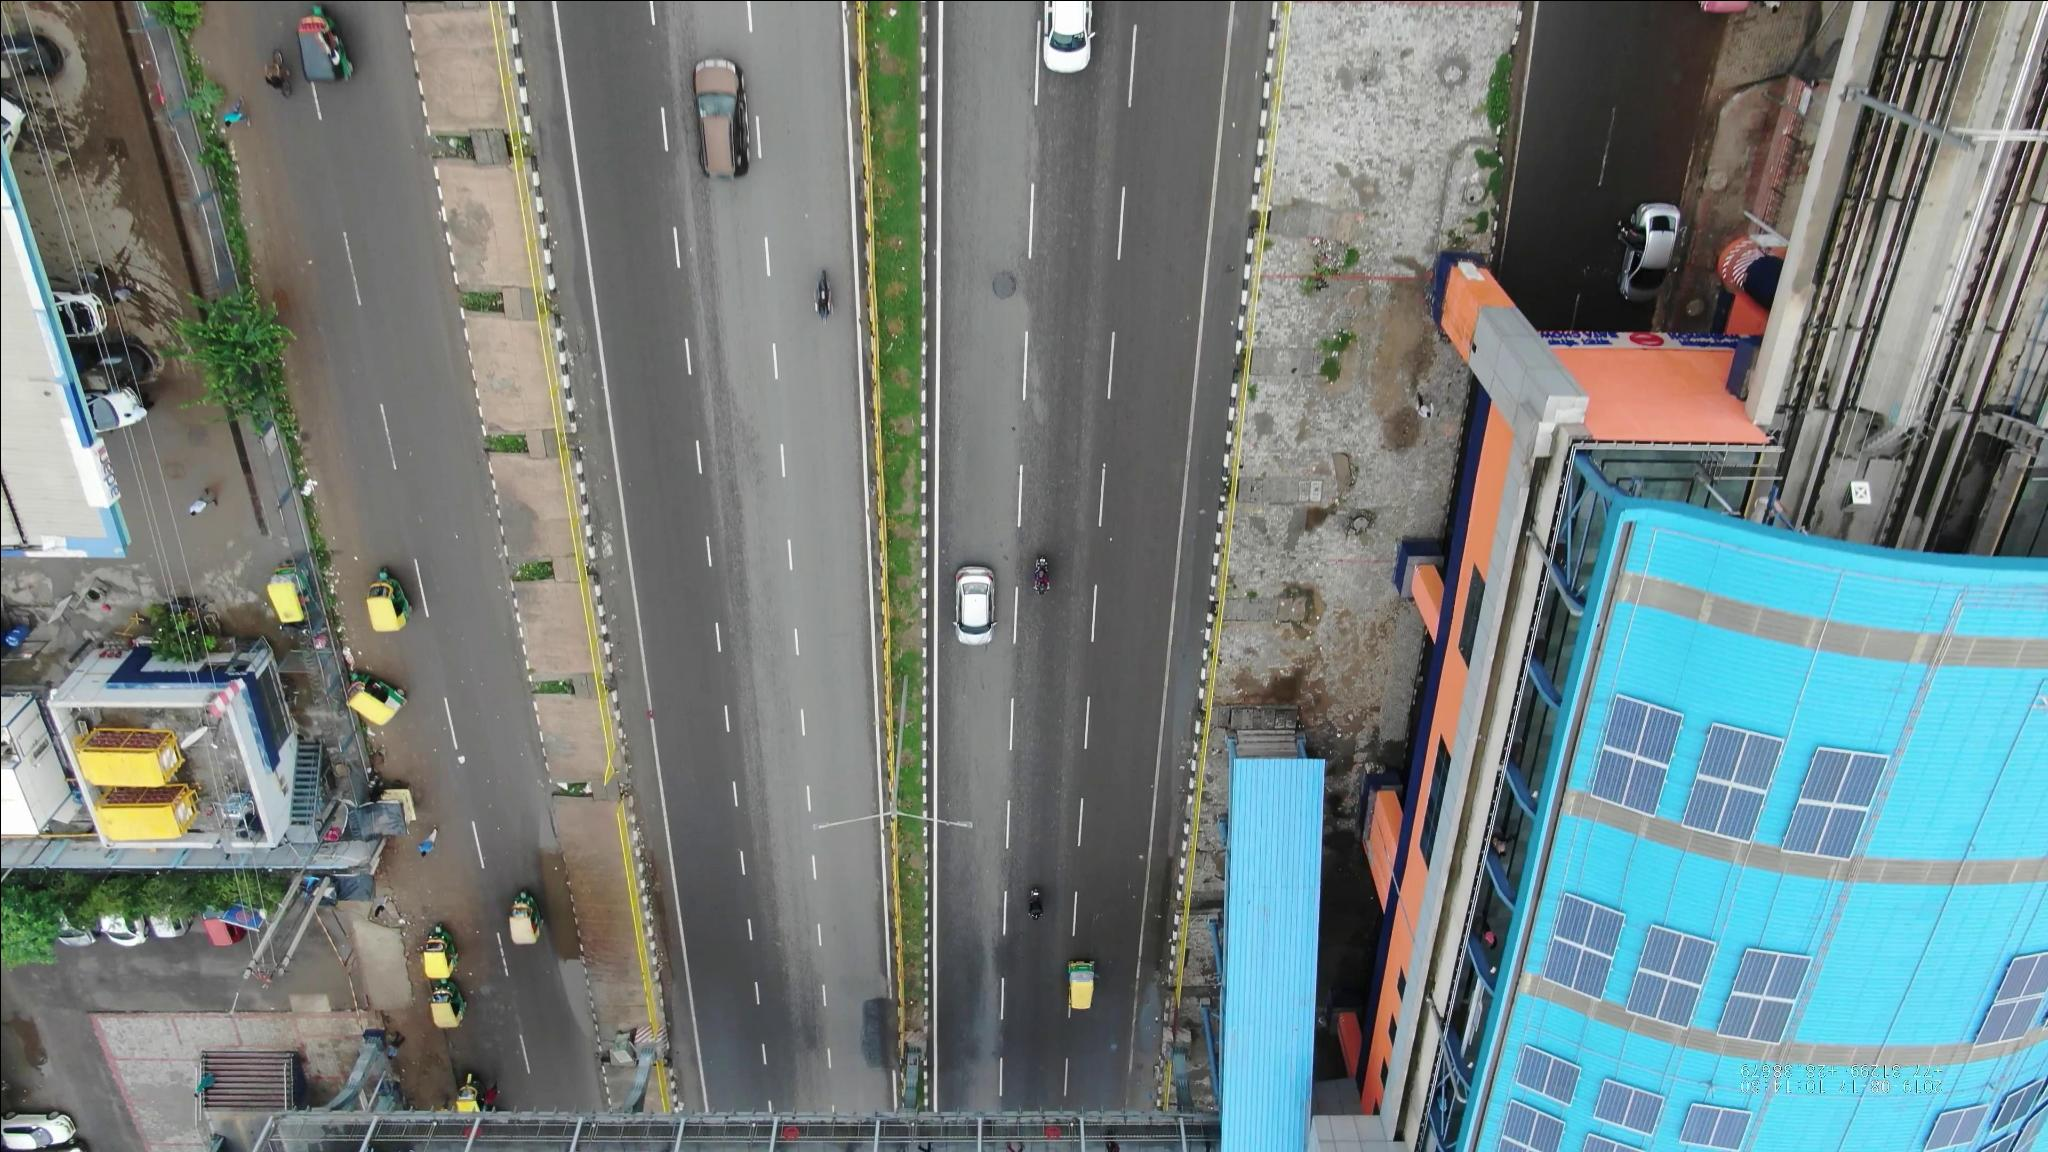Muddy_road: (246, 151, 316, 333), (286, 371, 359, 532)
Potholes: (969, 243, 1048, 309)
Waterlogging: (535, 833, 602, 1037)
